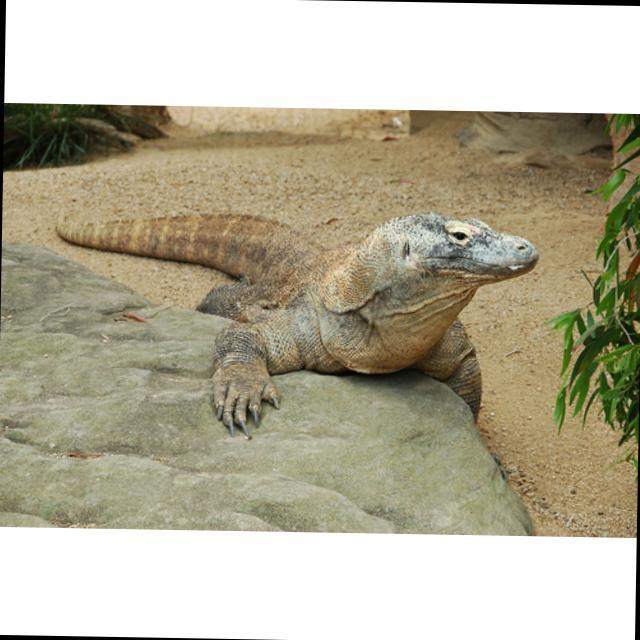KomodoDragon: (51, 189, 545, 446)
